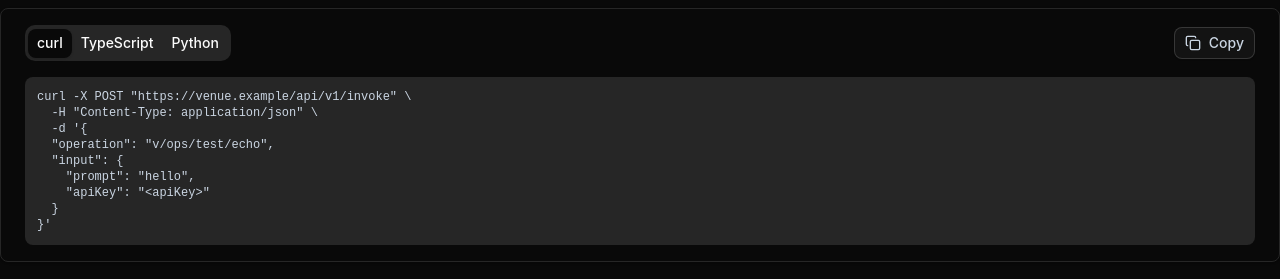
it: OperationCodeSnippets › switches to the TypeScript tab and shows an @covia/covia-sdk snippet
Click the tab with test id "snippet-tab-typescript" at (117, 43), box [72,28,162,58]
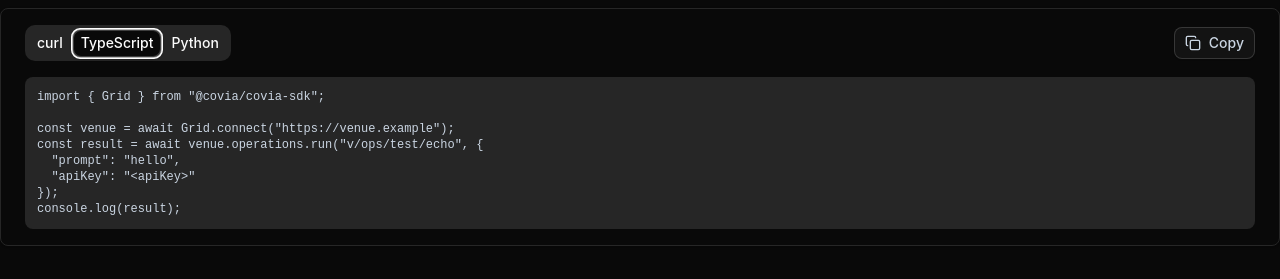
Check: the text with test id "snippet-typescript" shows "import { Grid } from \"@covia/covia-sdk\";", box [37,90,484,216]
Check: the text with test id "snippet-typescript" shows "venue.operations.run(\"v/ops/test/echo\",", box [37,90,484,216]
